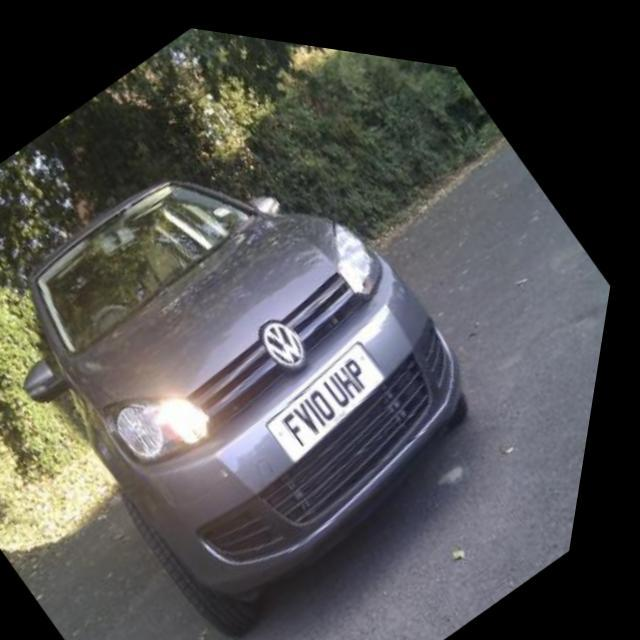license_plate: (266, 320, 412, 464)
